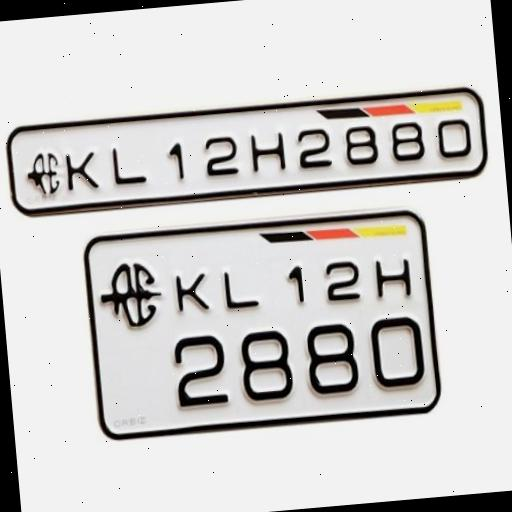number plate: (81, 202, 446, 449), (0, 81, 495, 222)
